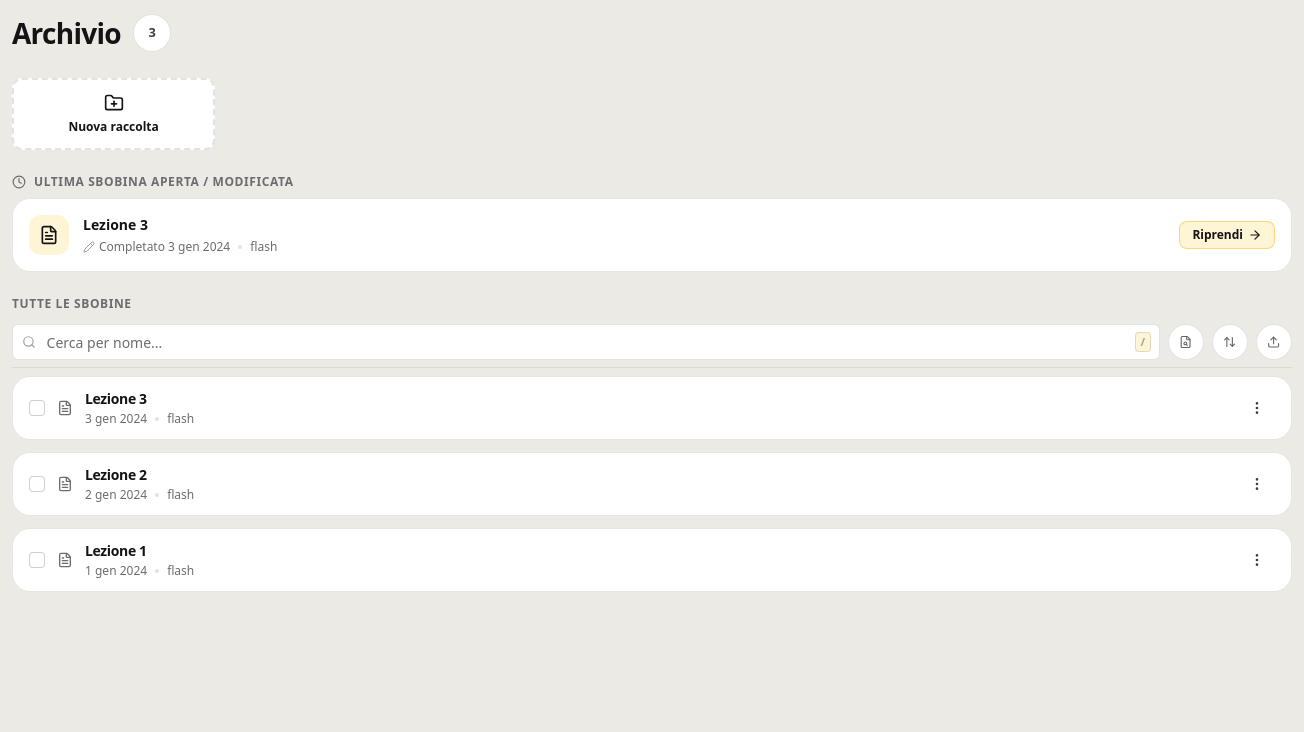
Test: ArchivePage › toggles select all and deselect all from the action bar
Note: Select 1 item
Click the button titled "Seleziona". click: (37, 408)
box: [29, 400, 45, 416]
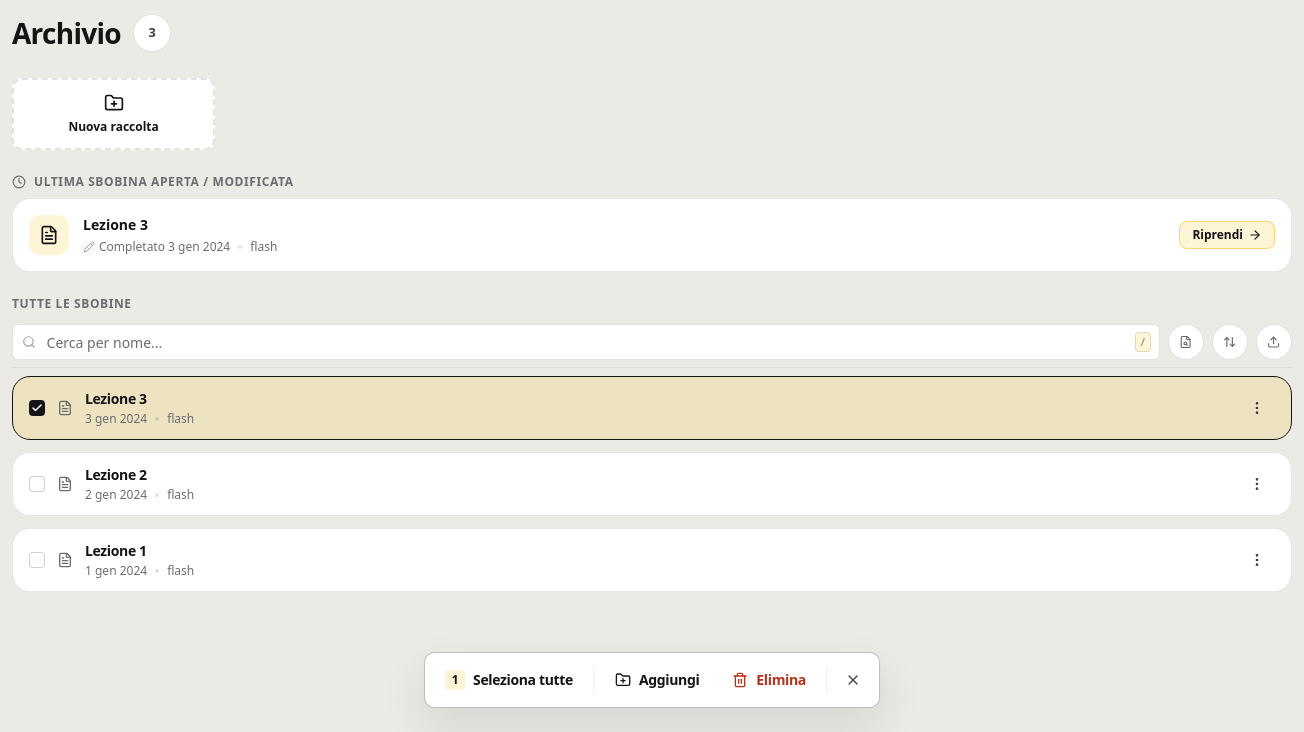
Note: Click "Seleziona tutte"
Click the text "Seleziona tutte". click: (523, 680)
box: [473, 670, 573, 690]
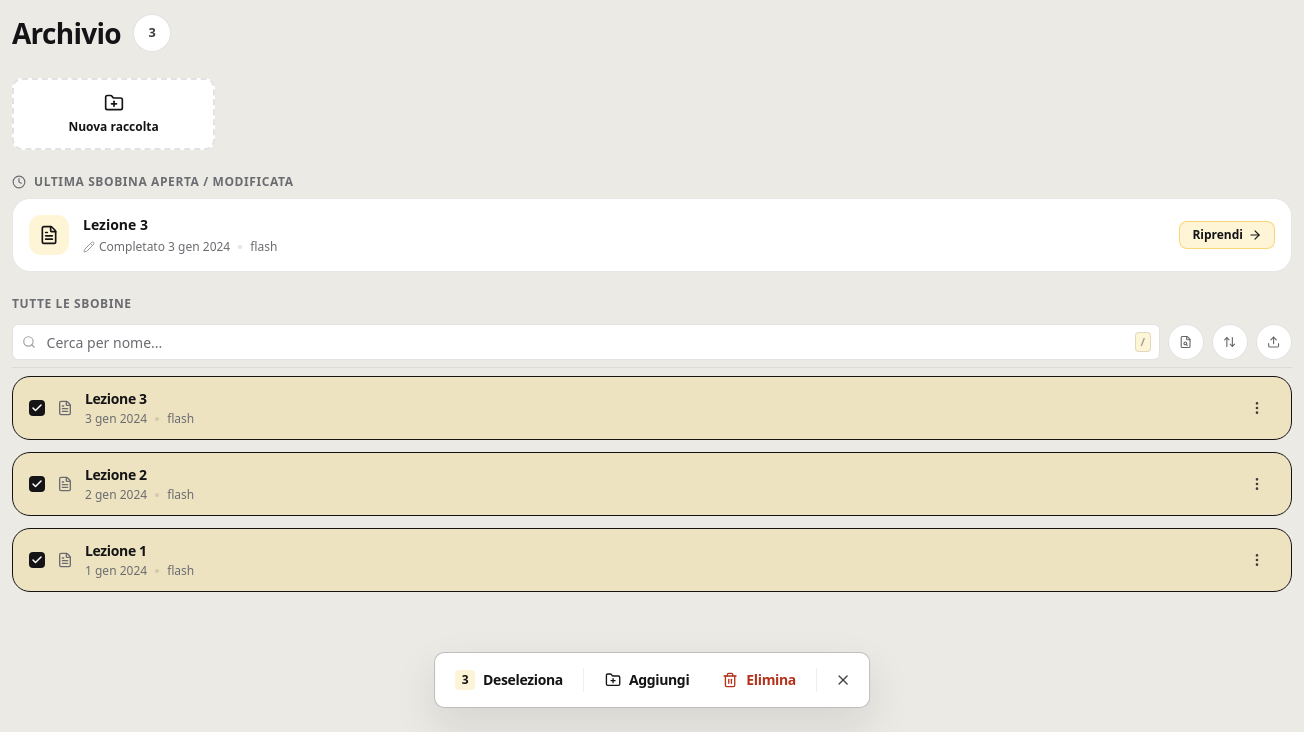
Expected: the text "Deseleziona" is shown
Click the text "Deseleziona". click: (523, 680)
box: [483, 670, 563, 690]
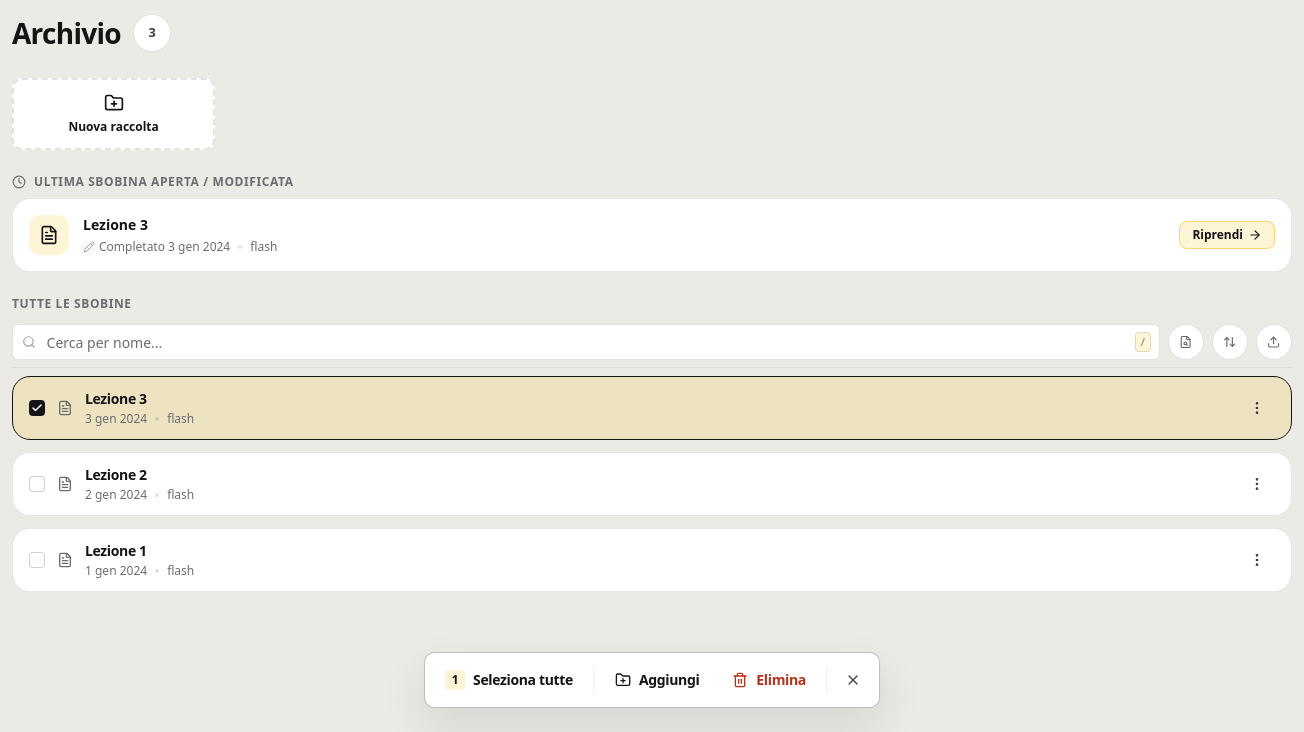
Expected: the text "1" is shown, [445, 670, 465, 690]
Expected: the text "Seleziona tutte" is shown, [473, 670, 573, 690]
